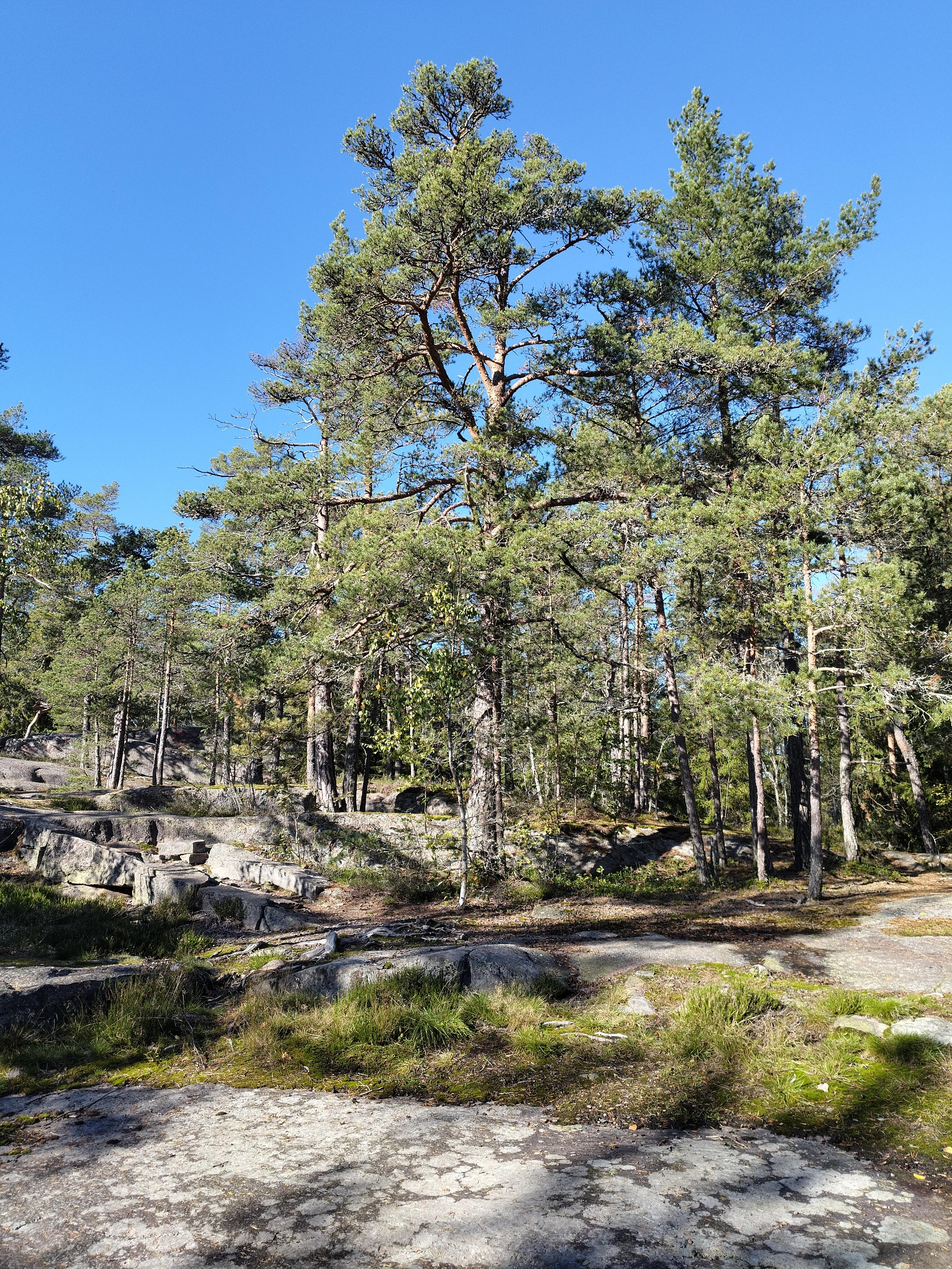Pine: (280, 6, 652, 946)
